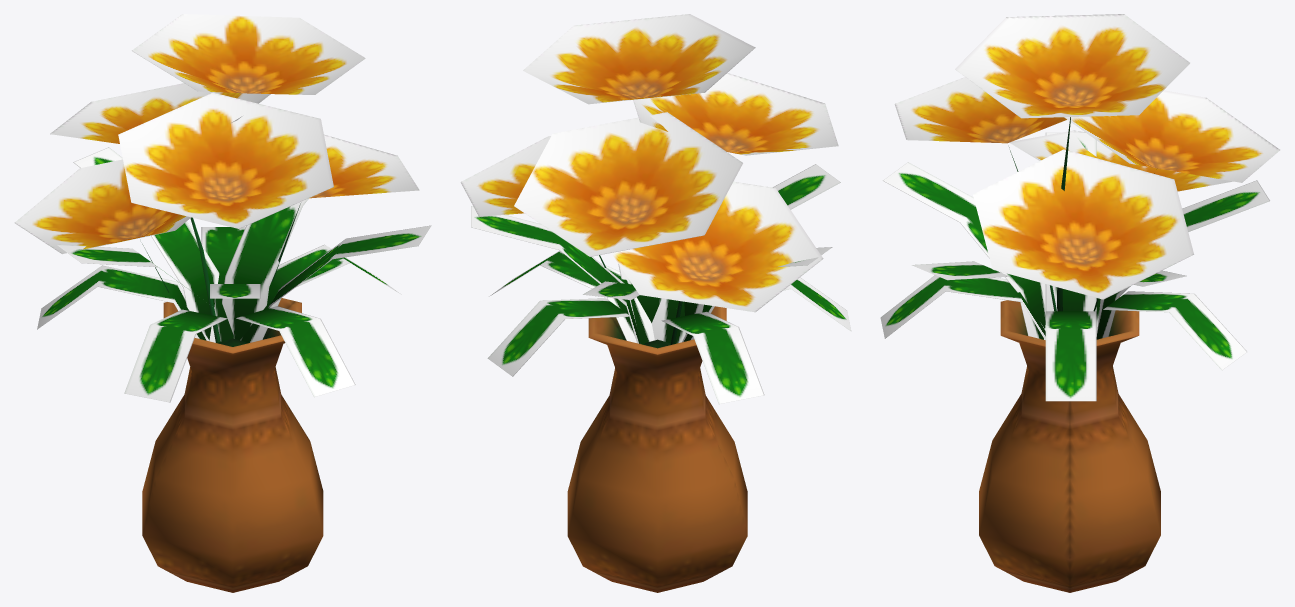
The model's file is FlowerPot_02.gltf.
The picture shows the model from 3 angles, left to right: view 1: azimuth 30°, elevation 25°; view 2: azimuth 150°, elevation 25°; view 3: azimuth 270°, elevation 25°; orthographic projection.
Parts seen in each view (by area): view 1: FlowerPot_02; view 2: FlowerPot_02; view 3: FlowerPot_02.
Boxes of the visible parts, left/top/right/bottom form: FlowerPot_02: left=14, top=14, right=431, bottom=592; FlowerPot_02: left=460, top=14, right=851, bottom=592; FlowerPot_02: left=880, top=14, right=1279, bottom=592.
Size of the model in its own units: 33.74 by 47.74 by 33.25.
Materials: 1 (1 with a texture image).
